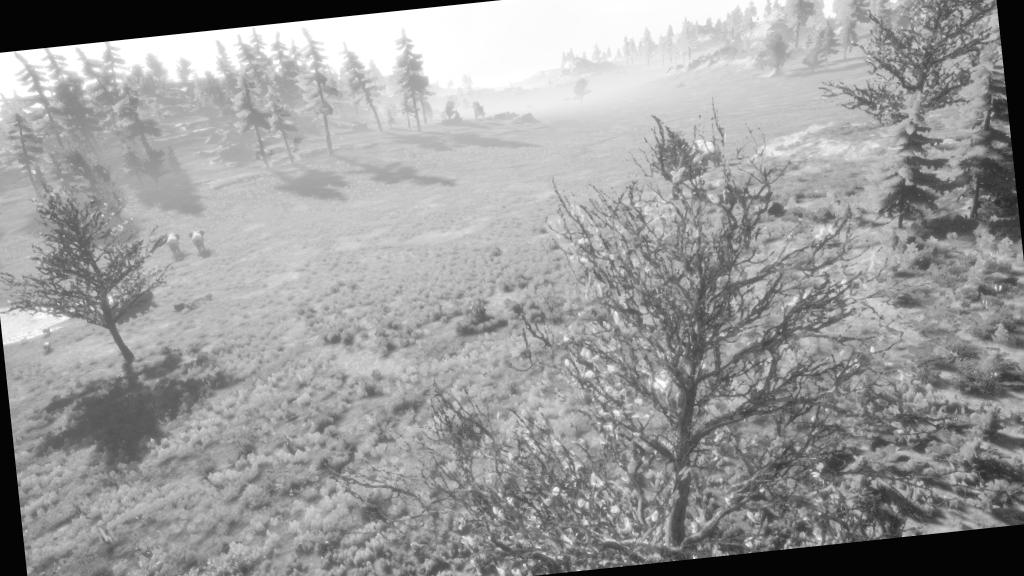Fire: (255, 158, 276, 170), (292, 149, 304, 164)
elephant: (185, 218, 219, 260), (156, 222, 186, 259)
